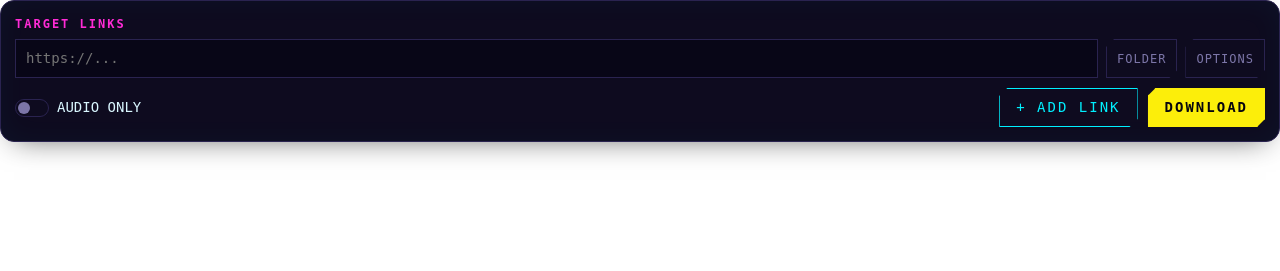
Test: UrlInput rows › can add several rows
This screenshot has width=1280, height=271.
Click the button "+ ADD LINK": (1068, 108) [999,88,1138,127]
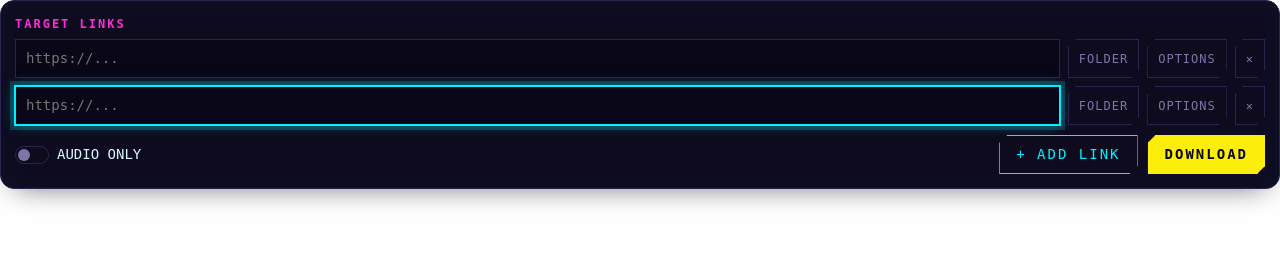
Click the button "+ ADD LINK": (1068, 154) [999,135,1138,174]
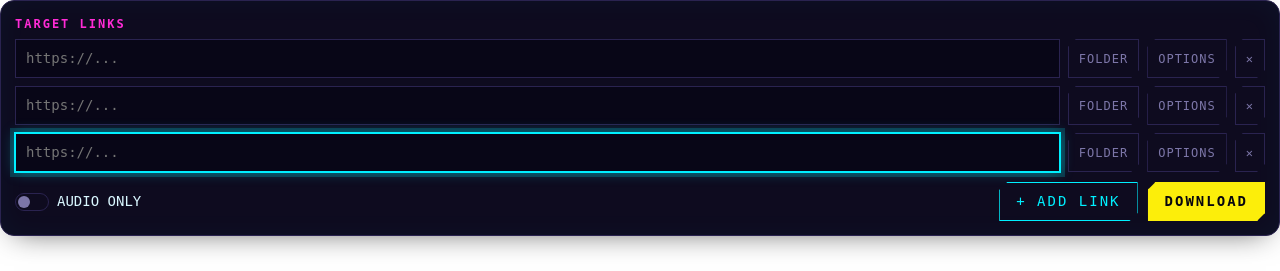
Expected: the number of fields labelled "https://..." is 3, [15,39,1060,78]; [15,86,1060,125]; [15,133,1060,172]
